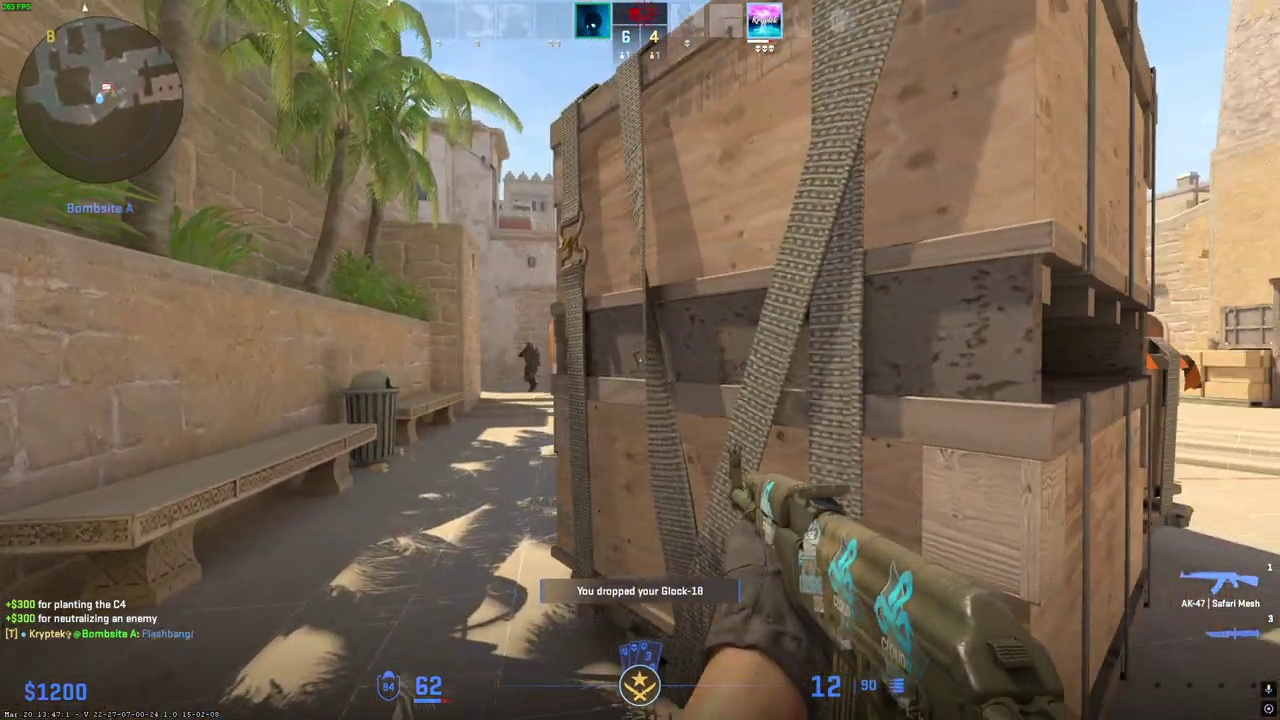CT: (520, 341, 541, 391)
